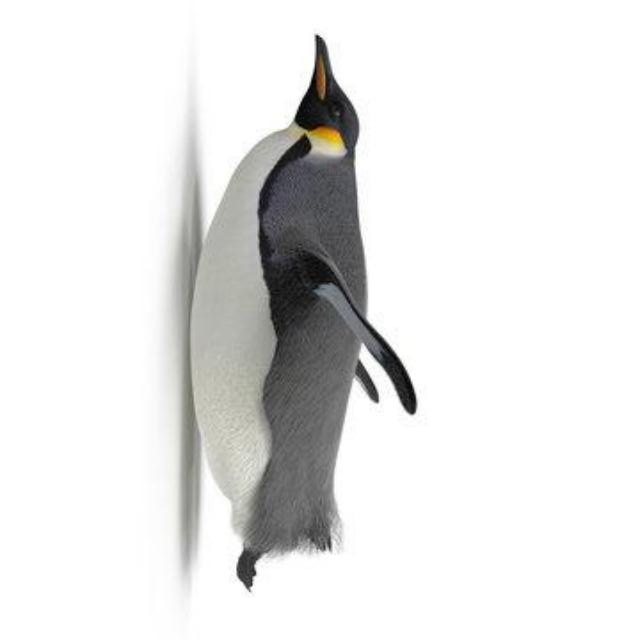penguin: (185, 32, 419, 595)
